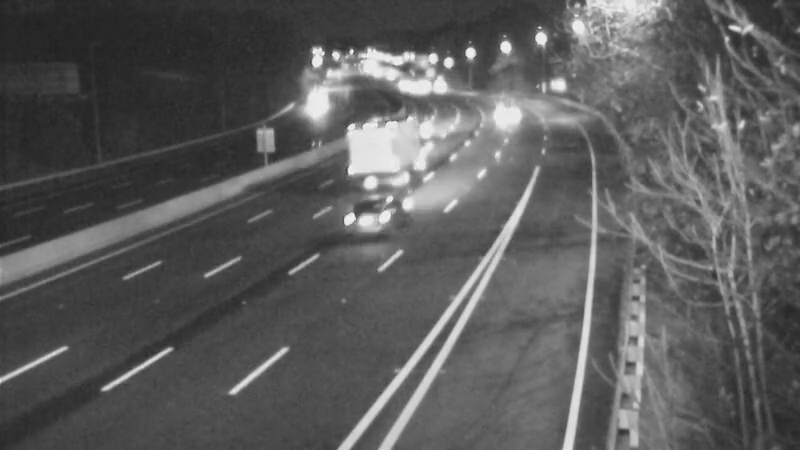vehicle: (348, 120, 428, 200), (327, 172, 407, 252), (420, 62, 470, 112), (476, 90, 526, 140), (396, 102, 446, 152), (358, 94, 408, 144), (291, 80, 341, 130)
